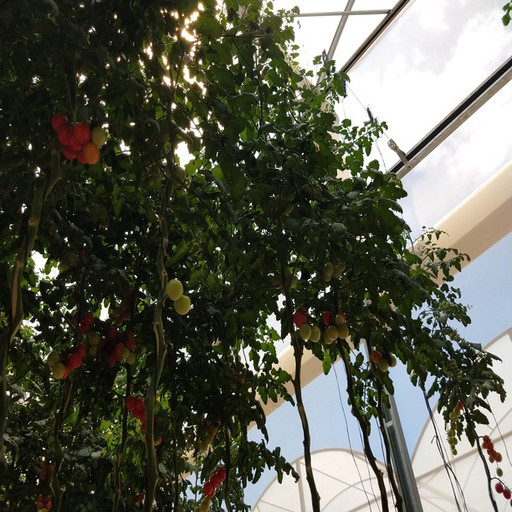green tomato bunch: (276, 262, 345, 295), (446, 409, 463, 458)
mixed tomato bunch: (47, 310, 93, 382), (50, 111, 107, 165), (124, 394, 169, 446), (294, 310, 349, 343), (100, 325, 137, 368), (32, 461, 54, 512), (200, 465, 229, 499)
